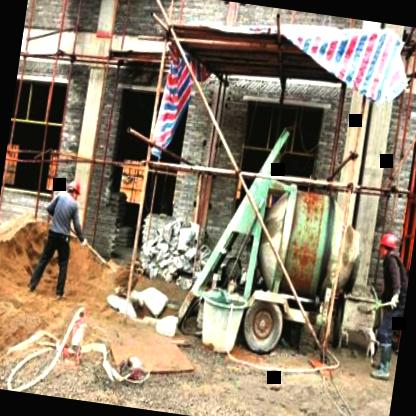helmet: (372, 228, 399, 262), (62, 174, 85, 204)
